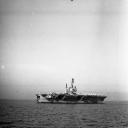Portanaves: (36, 78, 109, 105)
